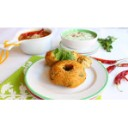vada: (49, 59, 86, 88), (46, 50, 90, 70)
